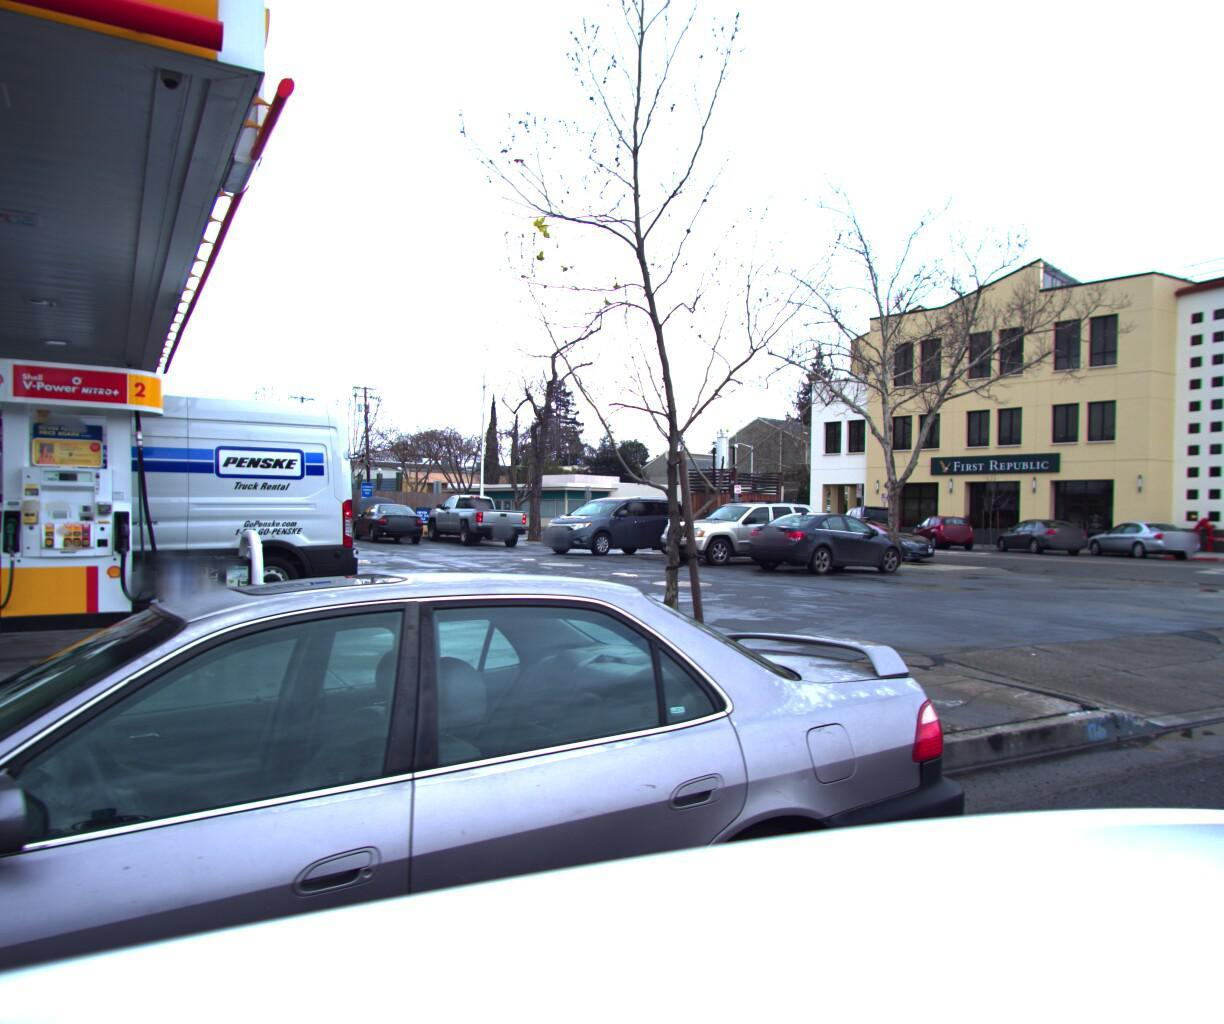car: (650, 498, 836, 570), (742, 510, 921, 580), (535, 492, 694, 561), (796, 516, 947, 566), (1080, 521, 1211, 565), (425, 495, 534, 547), (991, 520, 1097, 560), (350, 504, 432, 546), (831, 507, 906, 551), (906, 517, 981, 553)
